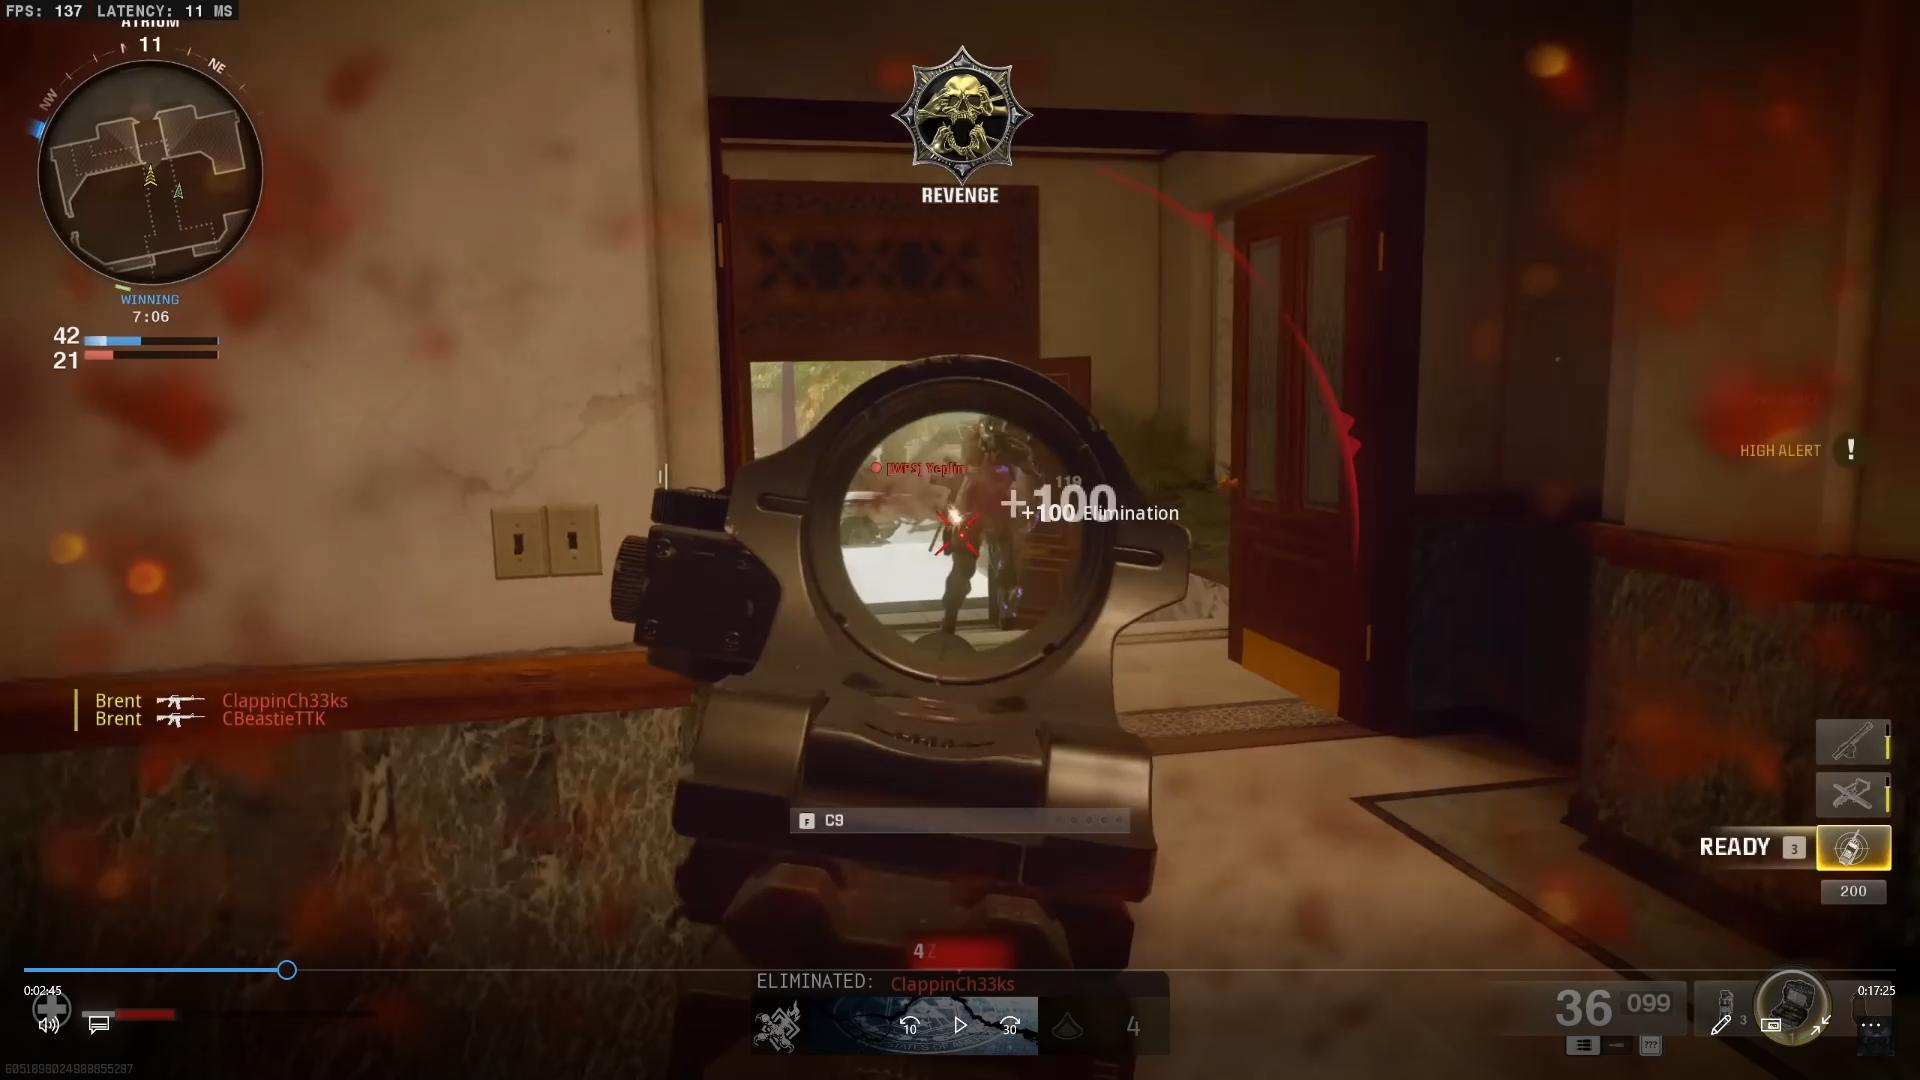Enemy: (947, 417, 1042, 632)
